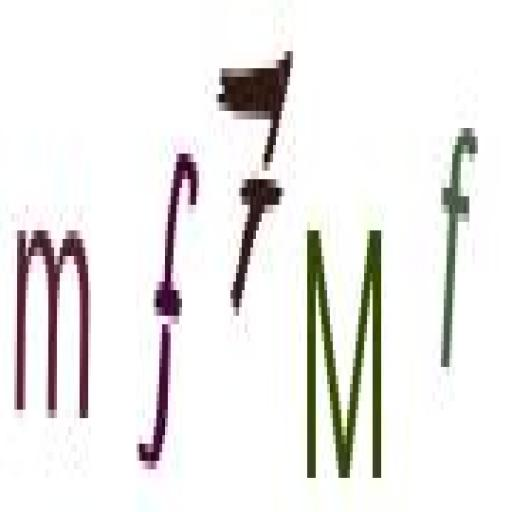7: (211, 29, 299, 338)
M: (302, 209, 387, 499)
f: (135, 124, 207, 494), (434, 106, 482, 385)
m: (14, 209, 94, 446)
